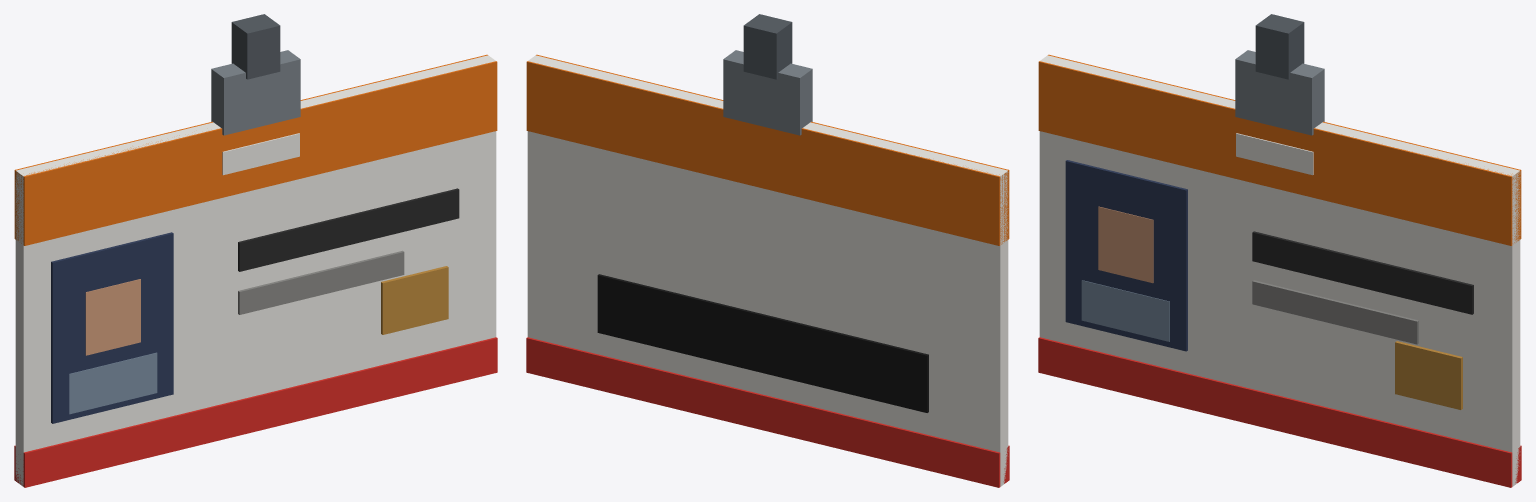
Rendered from SM_IDCard.fbx.
3 renders of one model, left to right at view 1: azimuth 30°, elevation 25°; view 2: azimuth 150°, elevation 25°; view 3: azimuth 330°, elevation 25°, orthographic.
Visible parts, largest first — view 1: IDCard_Body, IDCard_RoleStripe, IDCard_Clip; view 2: IDCard_Body, IDCard_RoleStripe, IDCard_Clip; view 3: IDCard_Body, IDCard_RoleStripe, IDCard_Clip.
Part boxes in pixels (x1,y1,x2,y2): IDCard_Body: (14,54,497,486); IDCard_RoleStripe: (14,337,497,487); IDCard_Clip: (211,14,300,135); IDCard_Body: (526,54,1009,486); IDCard_RoleStripe: (526,337,1009,487); IDCard_Clip: (723,14,812,135); IDCard_Body: (1038,54,1521,486); IDCard_RoleStripe: (1038,337,1521,487); IDCard_Clip: (1235,14,1324,135).
Size of the model in its own units: 0.086 by 0.07 by 0.005.
Materials: 1 (1 with a texture image).
